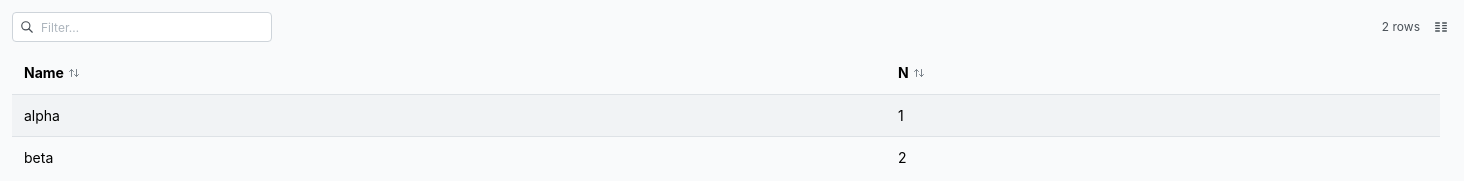
Test: DataTable › tells "no rows at all" apart from "nothing matches the filter"
expect the text "alpha" is shown: met, box [12,94,886,137]
In the field named "Filter rows": (142, 27) [12,12,272,42], type "zzz"
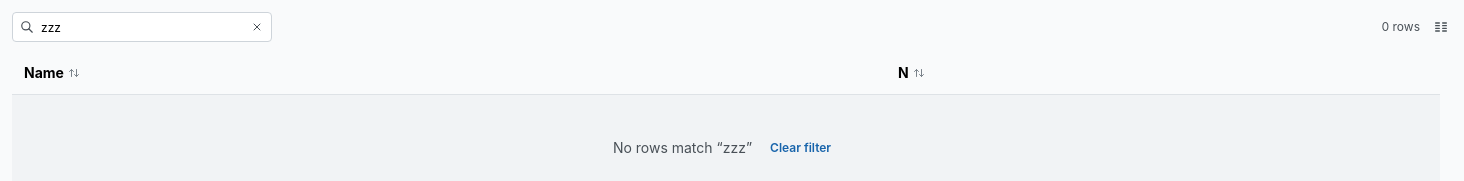
expect the text "No rows match “zzz”" is shown: met, box [613,138,752,158]
Click the button "Clear filter": (801, 148) [762,137,839,159]
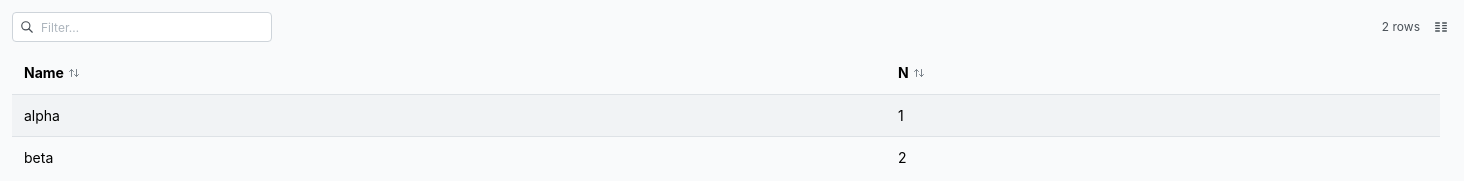
expect the text "alpha" is shown: met, box [12,94,886,137]
